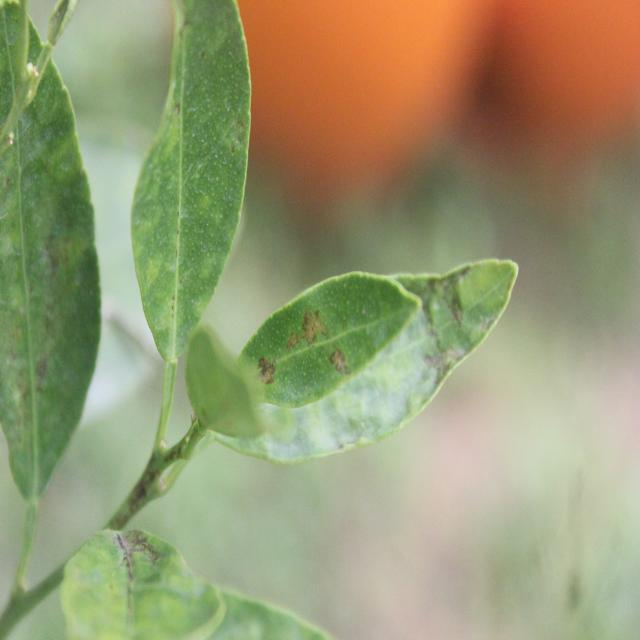canker: (253, 254, 502, 461)
